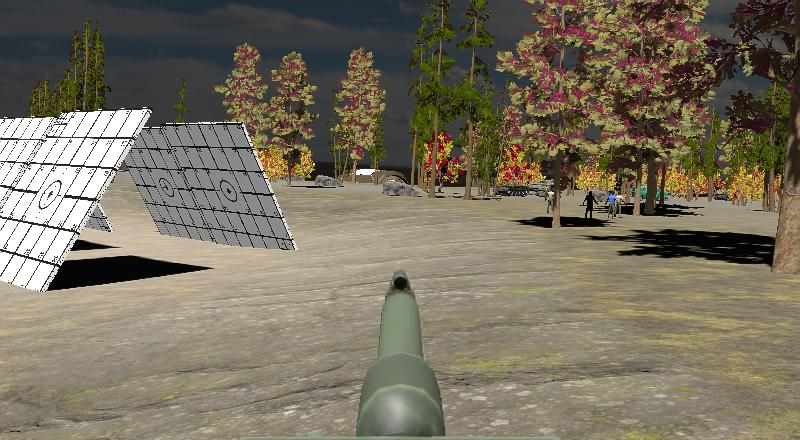Human: (606, 190, 620, 220)
car: (628, 182, 672, 204)
